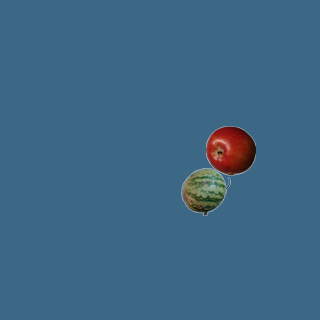Apple Braeburn: (205, 125, 255, 175)
Watermelon: (180, 166, 230, 216)
